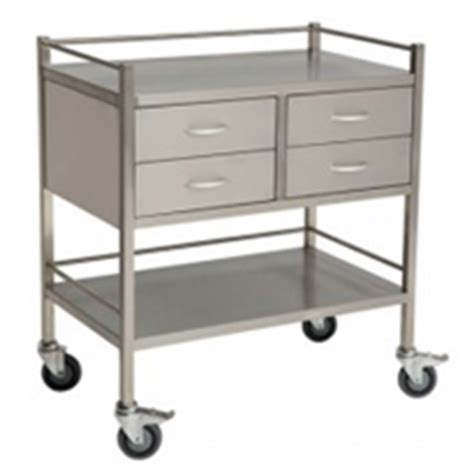Carts: (35, 21, 449, 460)
